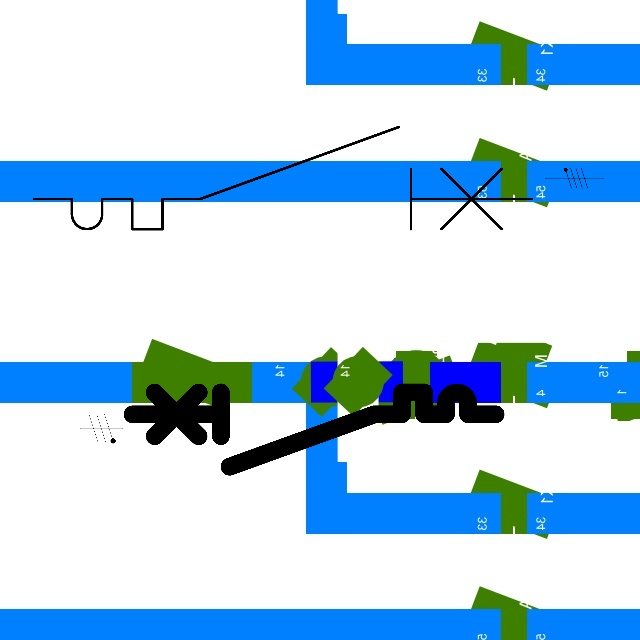interruptor_termomagnetico: (21, 114, 545, 242), (123, 383, 504, 476)
